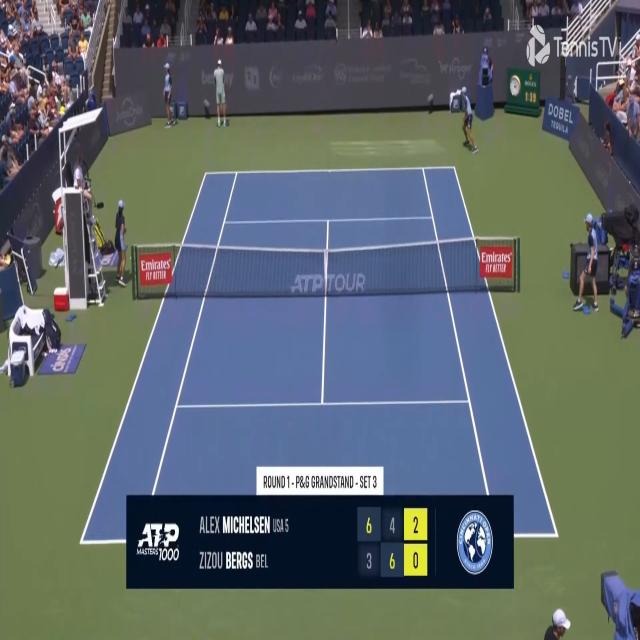tennis-player: (213, 57, 230, 131)
